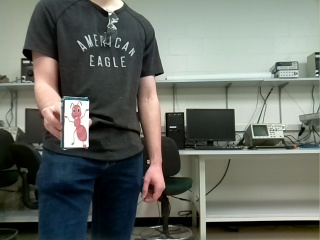Happy: (64, 101, 89, 147)
